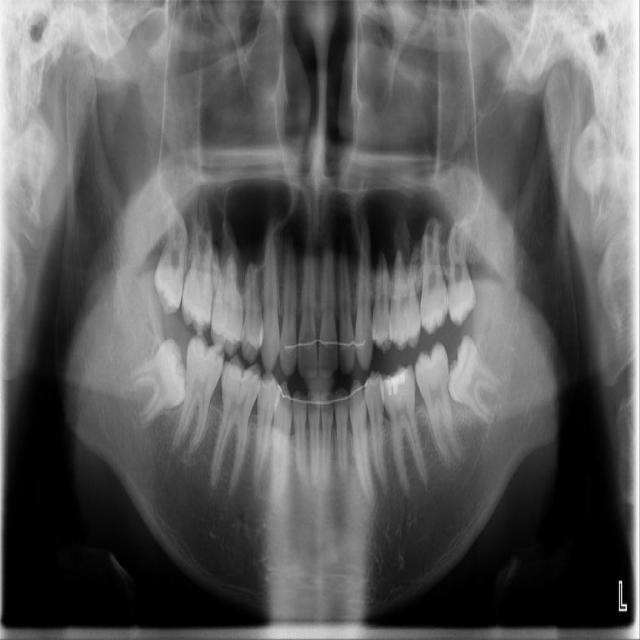Filling: (380, 367, 407, 399)
impacted tooth: (111, 337, 187, 423), (449, 336, 504, 425)
